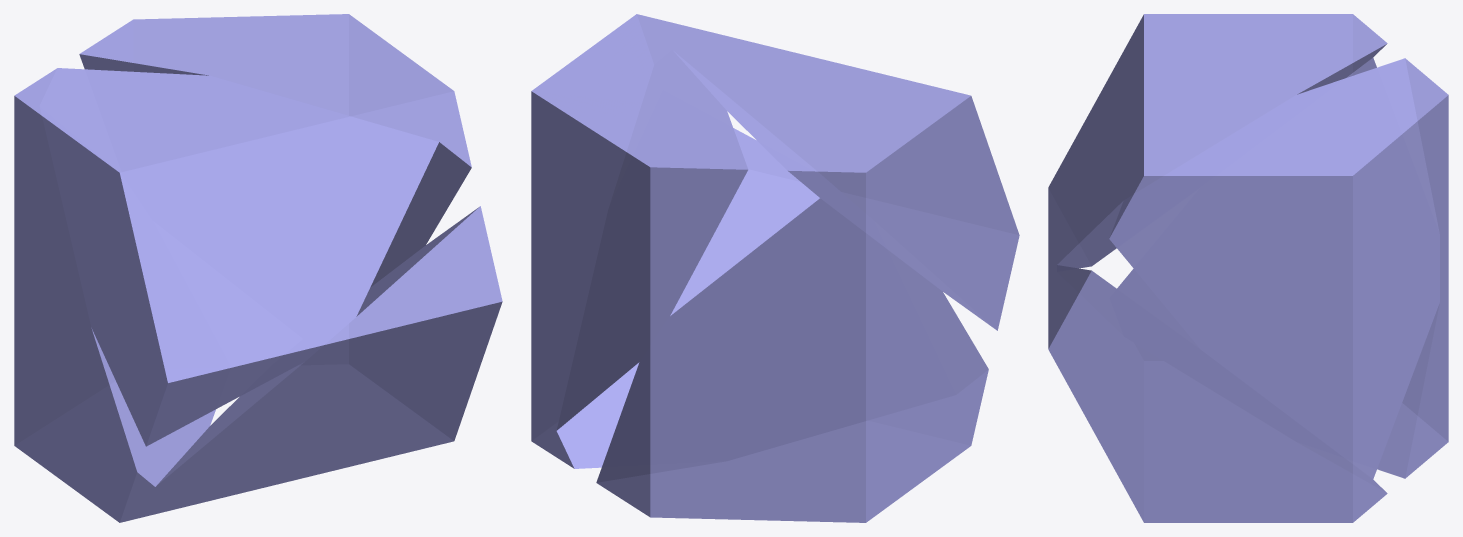
Rendered from OctagonalDodecahedron.obj.
3 views of the same model, side by side, from view 1: azimuth 30°, elevation 25°; view 2: azimuth 150°, elevation 25°; view 3: azimuth 270°, elevation 25° (orthographic).
Size of the model in its own units: 2.64 by 2.64 by 2.76.
